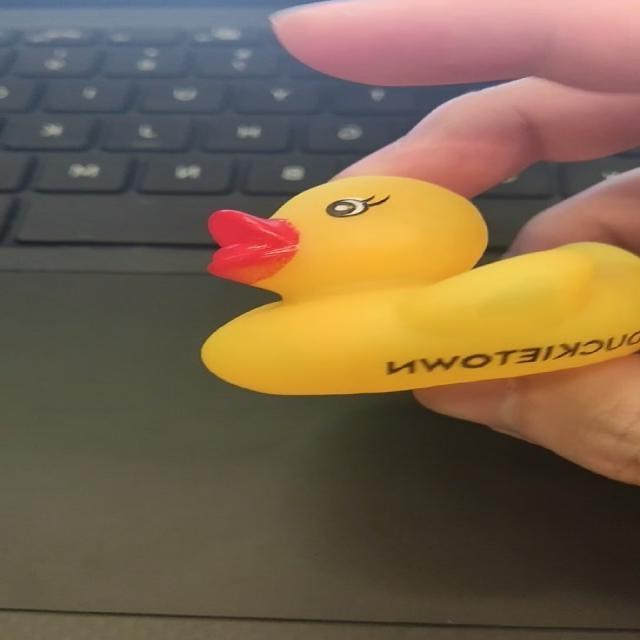rubber-duck: (201, 175, 638, 393)
